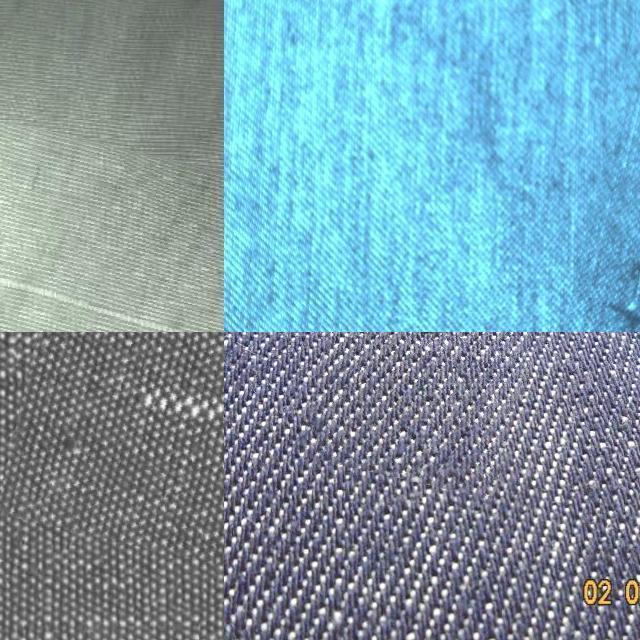stains: (10, 332, 224, 597), (0, 123, 224, 332), (314, 332, 544, 491), (579, 0, 640, 332)
